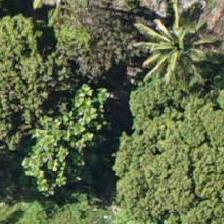coconut_tree: (148, 0, 223, 76)
